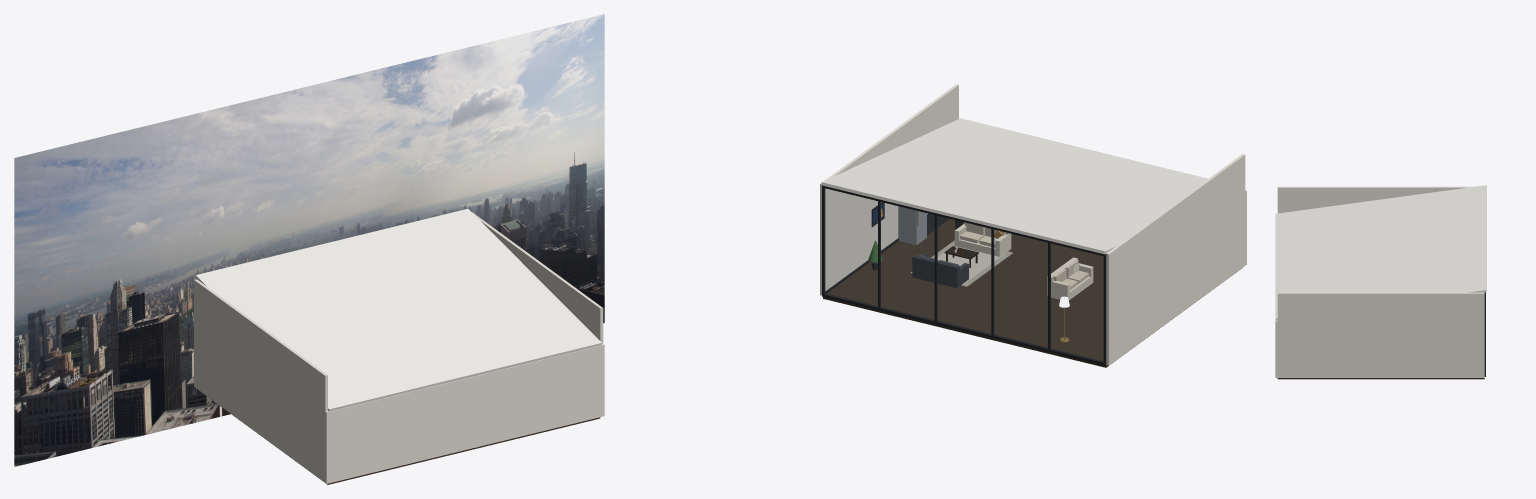
The model's file is lounge.glb.
The picture shows the model from 3 angles, left to right: view 1: azimuth 30°, elevation 25°; view 2: azimuth 150°, elevation 25°; view 3: azimuth 270°, elevation 25°; orthographic projection. The views are drawn at different scales.
Visible parts, largest first — view 1: RockiesView, Roof, Wall_South, Wall_West, Wall_East; view 2: Roof, Floor, Wall_West, Wall_East, GlassRail_B, Kitchen_Fridge, GlassRail_T, B_Back, RugInner; view 3: Roof, Wall_East, Wall_West, Floor.
Part boxes in pixels (bbox=[...]): RockiesView: bbox=[14, 14, 604, 466]; Roof: bbox=[195, 208, 601, 411]; Wall_South: bbox=[325, 344, 604, 483]; Wall_West: bbox=[194, 279, 327, 482]; Wall_East: bbox=[472, 212, 603, 343]; Roof: bbox=[821, 118, 1208, 254]; Floor: bbox=[823, 219, 1241, 367]; Wall_West: bbox=[1106, 154, 1245, 365]; Wall_East: bbox=[820, 84, 958, 295]; GlassRail_B: bbox=[822, 293, 1106, 365]; Kitchen_Fridge: bbox=[898, 206, 926, 244]; GlassRail_T: bbox=[822, 185, 1106, 256]; B_Back: bbox=[912, 255, 959, 281]; RugInner: bbox=[937, 245, 1005, 283]; Roof: bbox=[1275, 185, 1486, 320]; Wall_East: bbox=[1277, 292, 1484, 377]; Wall_West: bbox=[1277, 186, 1473, 213]; Floor: bbox=[1277, 378, 1484, 379].
Size of what is drawn, in the model's own units: 26 by 13 by 11.92.
Materials: 35 (1 with a texture image).
